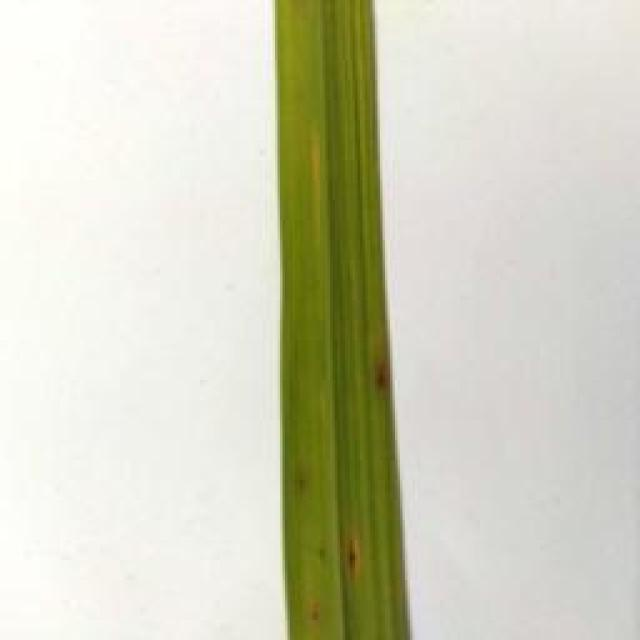Bacterial_Blight: (302, 126, 332, 254)
Brown_Spot: (364, 331, 411, 408), (342, 536, 368, 585), (302, 596, 328, 629), (287, 461, 311, 495)
